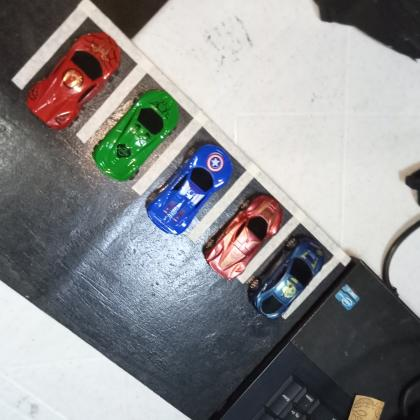Car: (24, 31, 122, 132), (92, 88, 180, 183), (145, 143, 235, 235), (202, 194, 285, 281), (246, 236, 326, 320)
